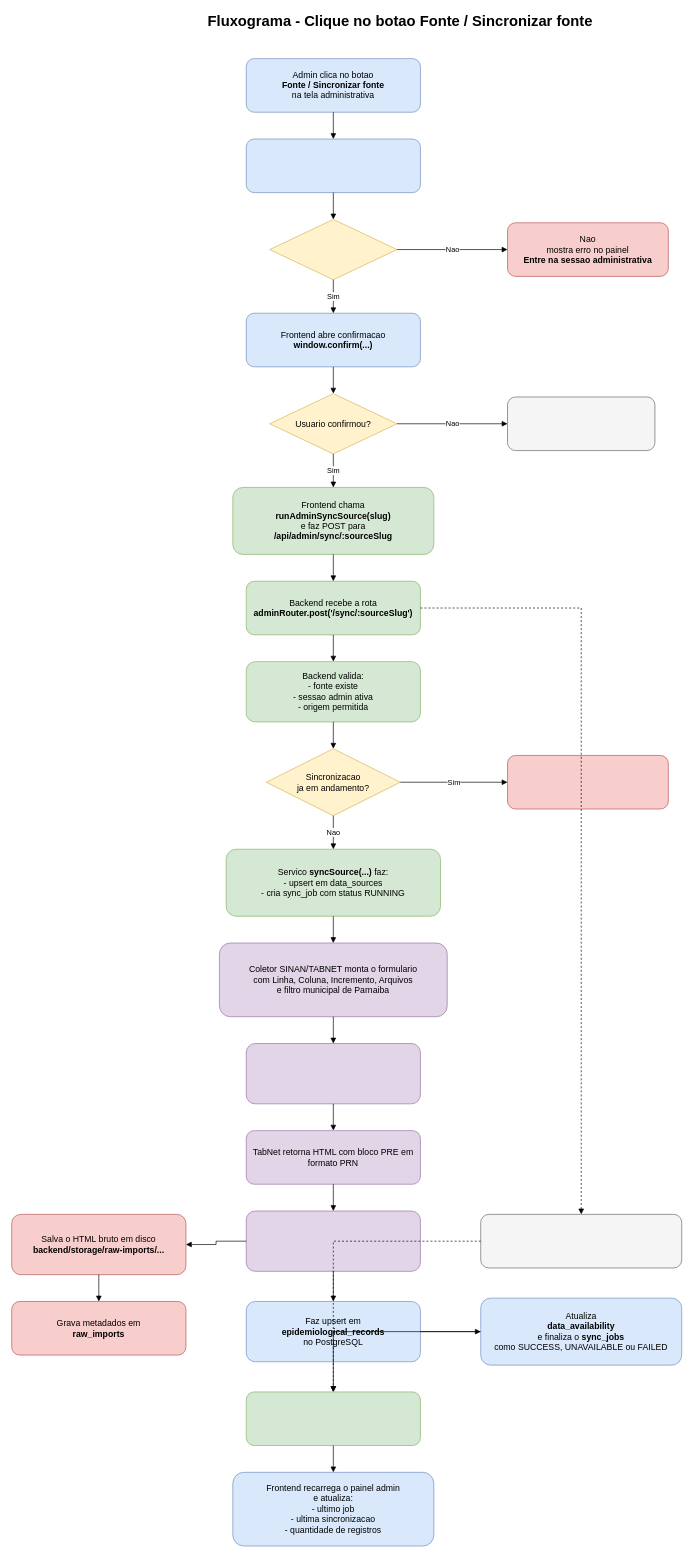
Image size: 693x1558. Some labels were removed from this diagram. Each missing label, with the centre of its shape:
"Admin autenticado?" goes at pixel 333 249.
"Backend faz POST no DataSUS / TabNet Nao usa API JSON oficial" goes at pixel 333 1073.
"Backend responde o resultado da sincronizacao para o frontend" goes at pixel 333 1418.
"Frontend executa syncSource(source.slug) em AdminDashboard.tsx" goes at pixel 333 165.
"Nao acao cancelada nenhuma coleta executada" goes at pixel 581 423.
"Registra auditoria em admin_audit_logs" goes at pixel 581 1241.
"Sim retorna erro 409 sync_already_running" goes at pixel 587 782.
"Sistema parseia o PRN, normaliza linhas e gera registros epidemiologicos" goes at pixel 333 1240.
